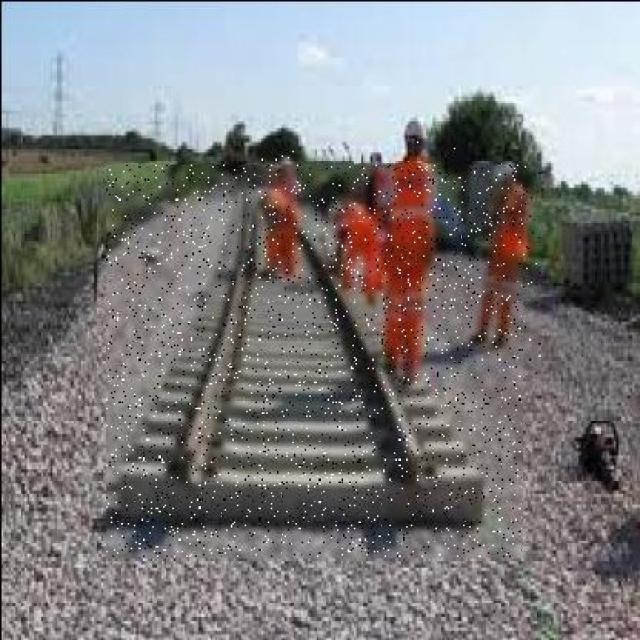danger: (374, 139, 456, 367), (469, 158, 538, 377), (255, 144, 314, 290), (334, 169, 388, 323)
rail: (105, 164, 520, 555)
